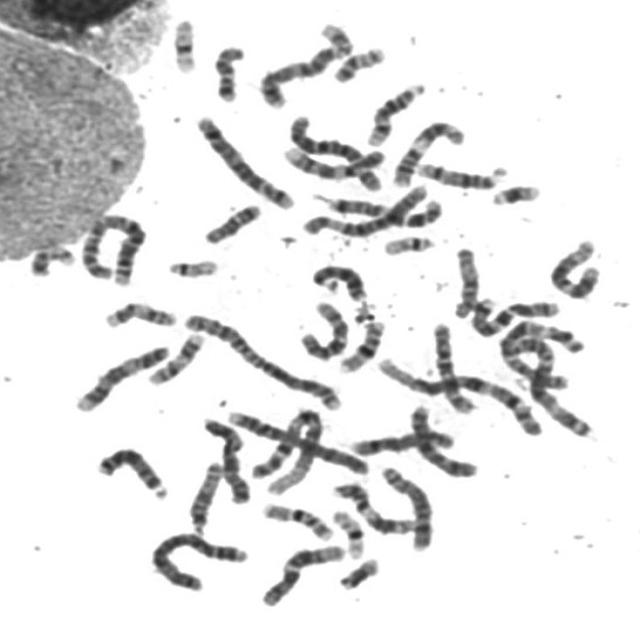A1: (370, 350, 548, 438), (233, 403, 327, 494)
A2: (177, 305, 345, 412), (73, 206, 150, 287)
A3: (499, 319, 597, 440), (493, 315, 582, 390)
B4: (220, 404, 373, 477), (142, 525, 250, 593)
B5: (188, 109, 296, 211), (252, 16, 356, 110)
C10: (426, 316, 480, 416), (292, 294, 352, 361)
C11: (386, 114, 468, 188), (325, 476, 417, 536)
C12: (253, 537, 347, 609), (542, 231, 604, 301)
C6: (282, 108, 387, 193), (296, 178, 432, 239)
C7: (464, 292, 563, 338), (322, 197, 447, 230)
C8: (374, 460, 436, 553), (344, 424, 458, 458)
C9: (68, 338, 171, 414), (276, 139, 389, 183)
D13: (89, 440, 171, 501), (304, 256, 369, 302)
D14: (361, 76, 429, 148), (408, 155, 507, 190)
D15: (182, 456, 226, 535), (445, 239, 483, 320)
E16: (255, 496, 336, 542), (331, 313, 388, 373)
E17: (141, 327, 206, 386), (98, 296, 180, 330)
E18: (197, 196, 264, 246), (206, 38, 248, 104)
F19: (326, 503, 367, 561), (166, 11, 200, 76)
F20: (327, 39, 388, 84), (22, 238, 78, 278)
G21: (332, 552, 381, 590), (484, 176, 544, 207)
G22: (376, 228, 438, 256), (160, 252, 222, 280)
X: (402, 397, 481, 480), (195, 411, 253, 505)
